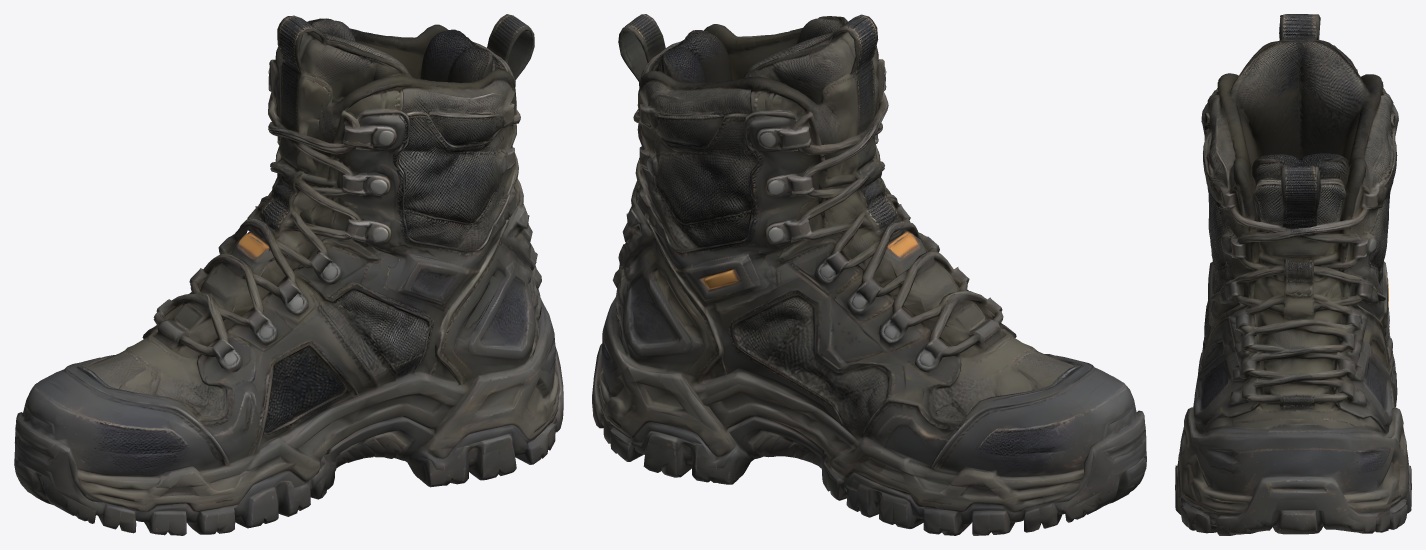
File: tactical-boot-v1.glb
3 views of the same model, side by side, from view 1: azimuth 30°, elevation 25°; view 2: azimuth 150°, elevation 25°; view 3: azimuth 270°, elevation 25° (orthographic). The views are drawn at different scales.
Visible parts, largest first — view 1: tripo_node_f8228c43-1a6b-4d00-b4a5-e116ad7d1d07; view 2: tripo_node_f8228c43-1a6b-4d00-b4a5-e116ad7d1d07; view 3: tripo_node_f8228c43-1a6b-4d00-b4a5-e116ad7d1d07.
Boxes of the visible parts, box(x1,y1,x2,y2) form: tripo_node_f8228c43-1a6b-4d00-b4a5-e116ad7d1d07: box(14, 14, 563, 535); tripo_node_f8228c43-1a6b-4d00-b4a5-e116ad7d1d07: box(592, 14, 1146, 535); tripo_node_f8228c43-1a6b-4d00-b4a5-e116ad7d1d07: box(1175, 14, 1411, 535).
Bounding box in the file's own units: 0.9792 × 0.7967 × 0.3962.
Materials: 1 (1 with a texture image).
